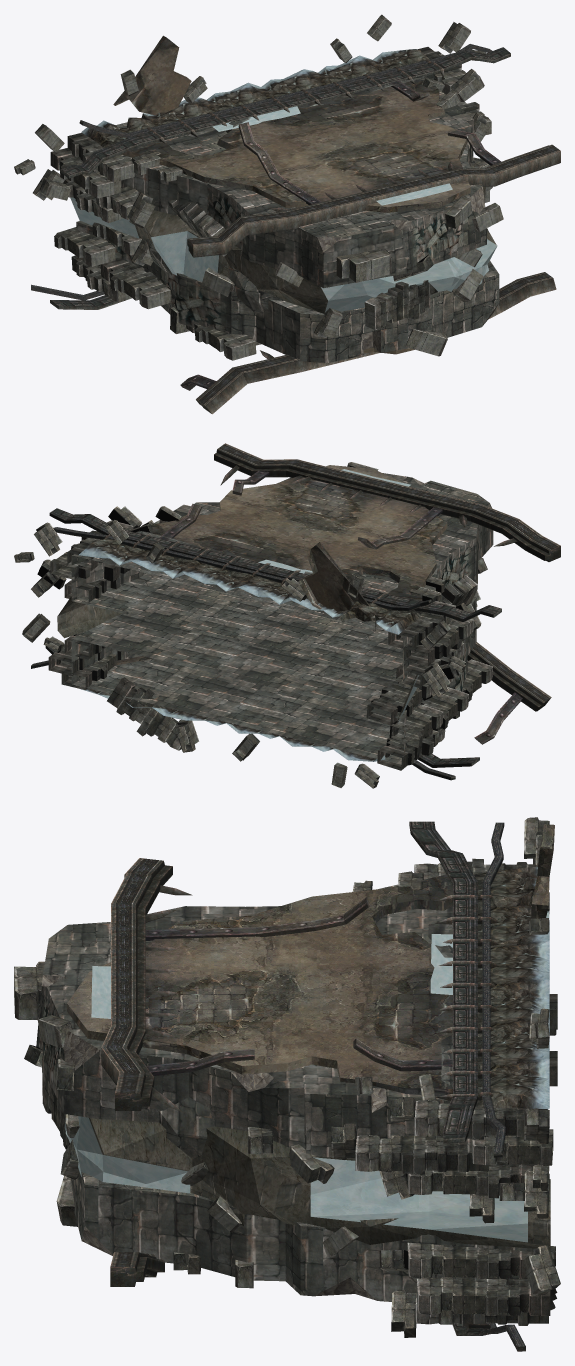
The model's file is huodong_fuben_421_feixu03_1.obj.
3 views of the same model, one above another, from view 1: azimuth 30°, elevation 25°; view 2: azimuth 150°, elevation 25°; view 3: azimuth 270°, elevation 25° (orthographic). The views are drawn at different scales.
Visible parts, largest first — view 1: huodong_fuben_421_feixu03_1; view 2: huodong_fuben_421_feixu03_1; view 3: huodong_fuben_421_feixu03_1.
Boxes of the visible parts, bbox=[...] form: huodong_fuben_421_feixu03_1: bbox=[14, 14, 560, 414]; huodong_fuben_421_feixu03_1: bbox=[14, 443, 560, 788]; huodong_fuben_421_feixu03_1: bbox=[14, 817, 560, 1351].
Bounding box in the file's own units: 308 × 166 × 214.
Materials: 10 (10 with a texture image).
